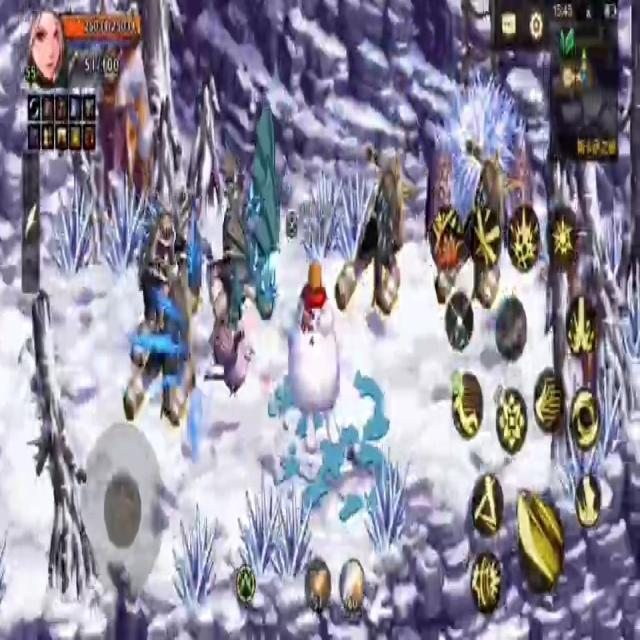player: (290, 252, 340, 452)
